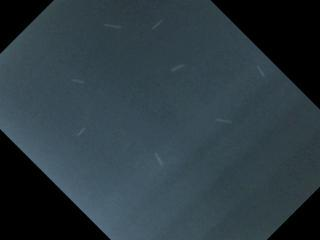scratch: (146, 13, 169, 37), (251, 60, 271, 83), (149, 149, 170, 170), (99, 19, 127, 34), (64, 73, 90, 89), (211, 113, 238, 128), (167, 58, 188, 76), (71, 123, 89, 141)
